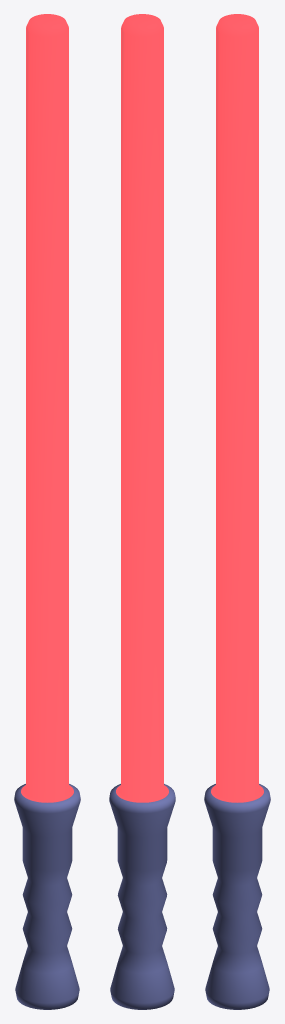
The model's file is sTICK.fbx.
3 views of the same model, side by side, from view 1: azimuth 90°, elevation 25°; view 2: azimuth 150°, elevation 25°; view 3: azimuth 270°, elevation 25° (orthographic).
Visible parts, largest first — view 1: Cylinder; view 2: Cylinder; view 3: Cylinder.
Boxes of the visible parts, box(x1,y1,x2,y2) form: Cylinder: box(14, 14, 80, 1009); Cylinder: box(109, 14, 175, 1009); Cylinder: box(204, 14, 270, 1009).
Bounding box in the file's own units: 16.46 × 267 × 16.46.
